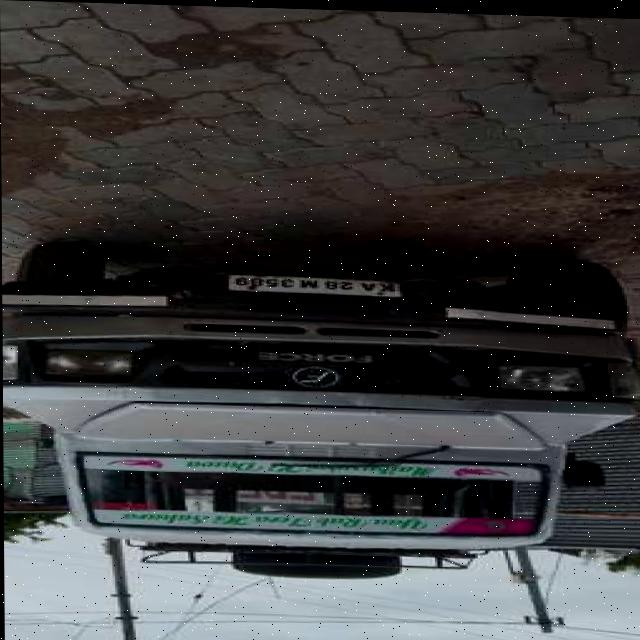plate: (224, 270, 405, 297)
